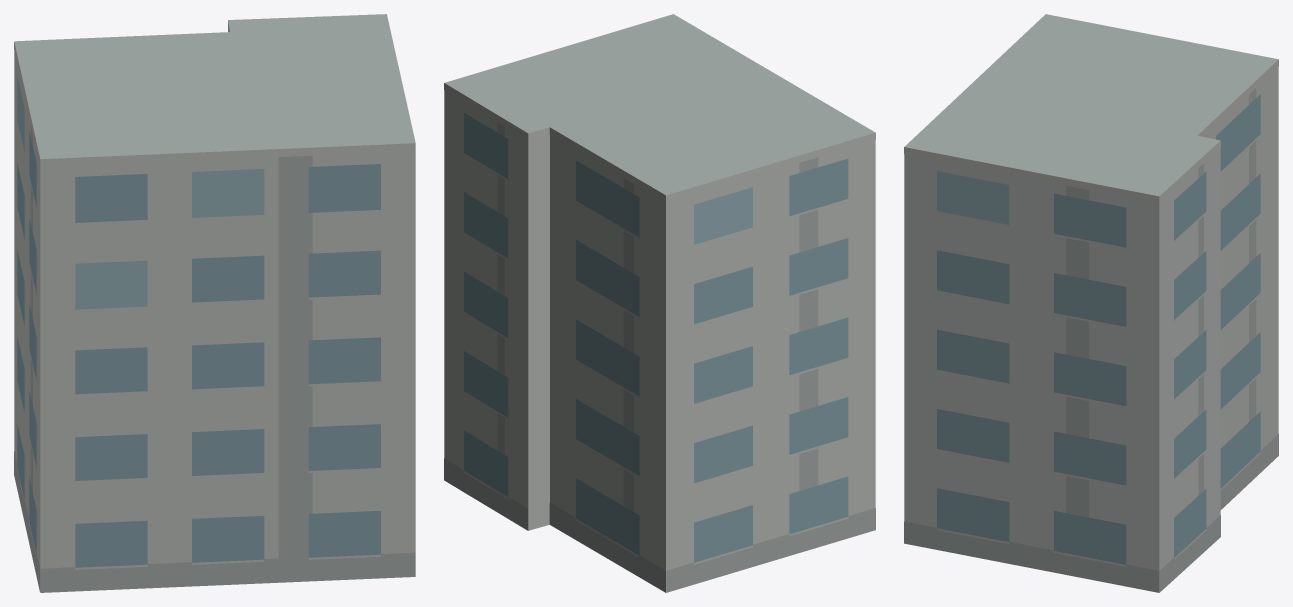
The model's file is survey-upis-32530687.glb.
The picture shows the model from 3 angles, left to right: view 1: azimuth 30°, elevation 25°; view 2: azimuth 150°, elevation 25°; view 3: azimuth 270°, elevation 25°; orthographic projection. The views are drawn at different scales.
Parts seen in each view (by area): view 1: survey-upis-32530687.tmp; view 2: survey-upis-32530687.tmp; view 3: survey-upis-32530687.tmp.
Boxes of the visible parts, box(x1,y1,x2,y2) form: survey-upis-32530687.tmp: box(14, 14, 415, 592); survey-upis-32530687.tmp: box(444, 14, 875, 592); survey-upis-32530687.tmp: box(904, 14, 1278, 592).
Size of the model in its own units: 12.93 by 13.1 by 11.23.
